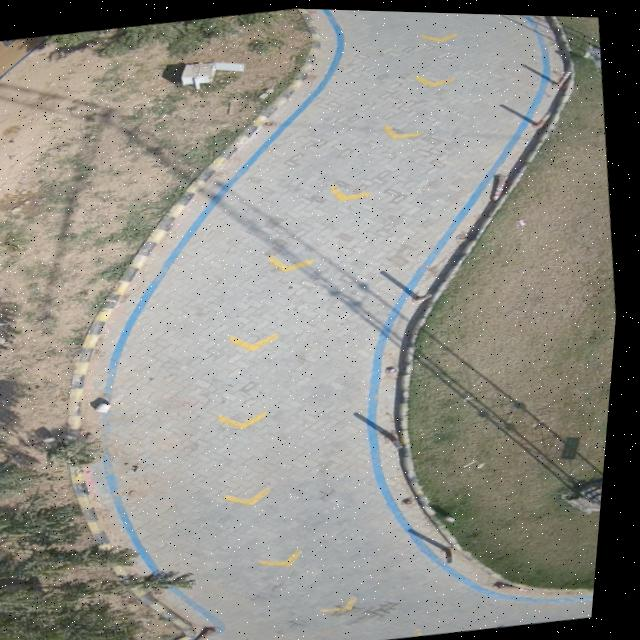No Car: (0, 7, 621, 640)
